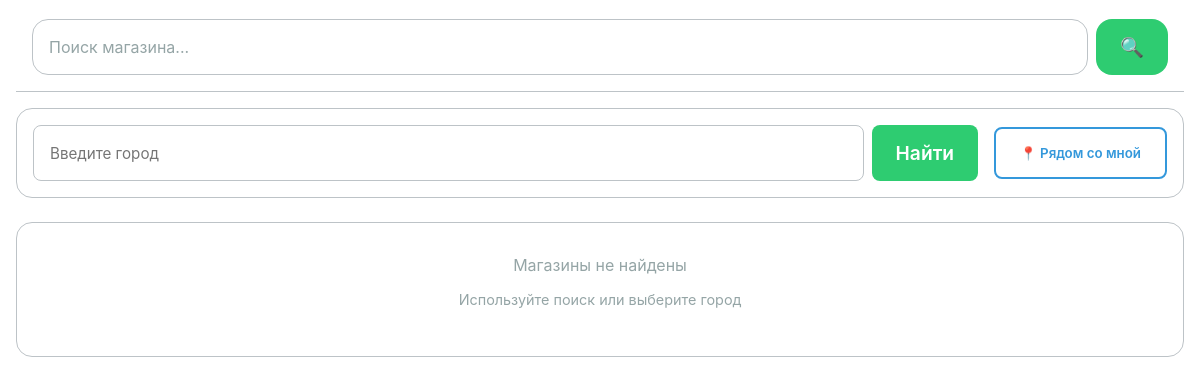
Test case: ShopsPage › searches shops and displays results on success
Type "root" into the field with placeholder "Поиск магазина..." at (560,47), box [32,19,1088,75]
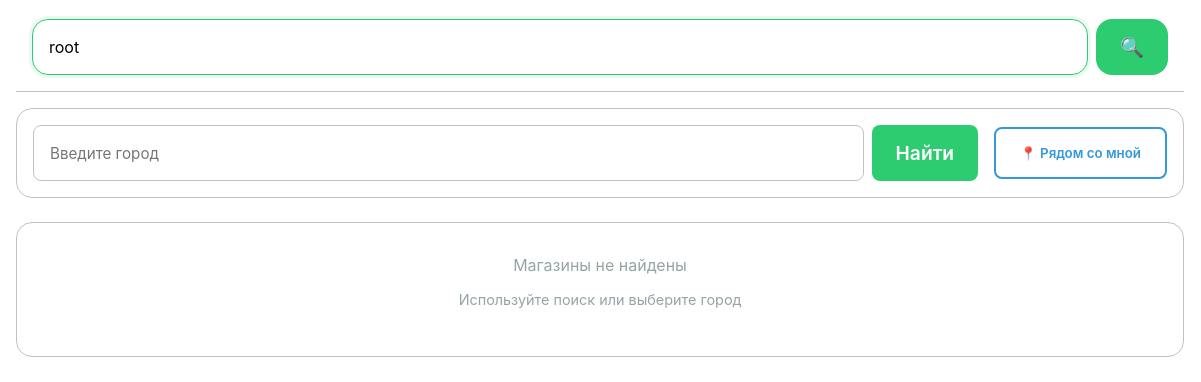
Click the button "🔍" at (1132,47), box [1096,19,1168,75]
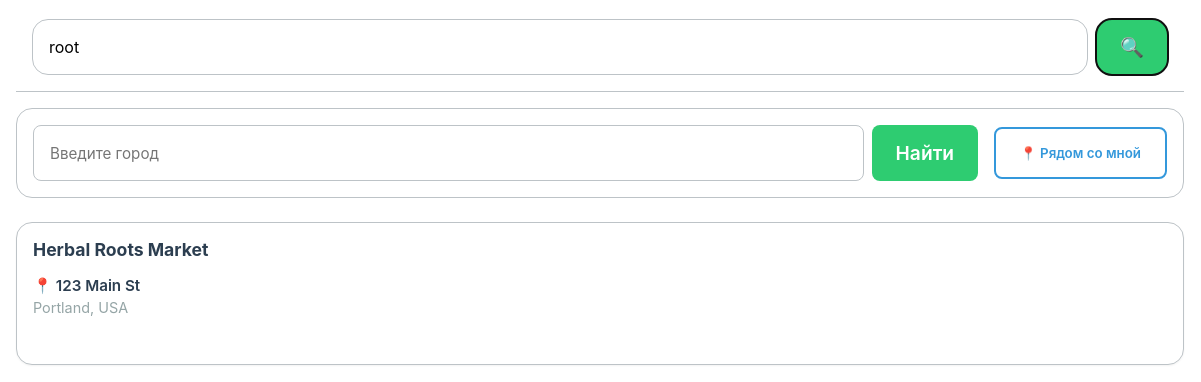
Now the heading "Herbal Roots Market" is shown, box [33,239,208,260]
